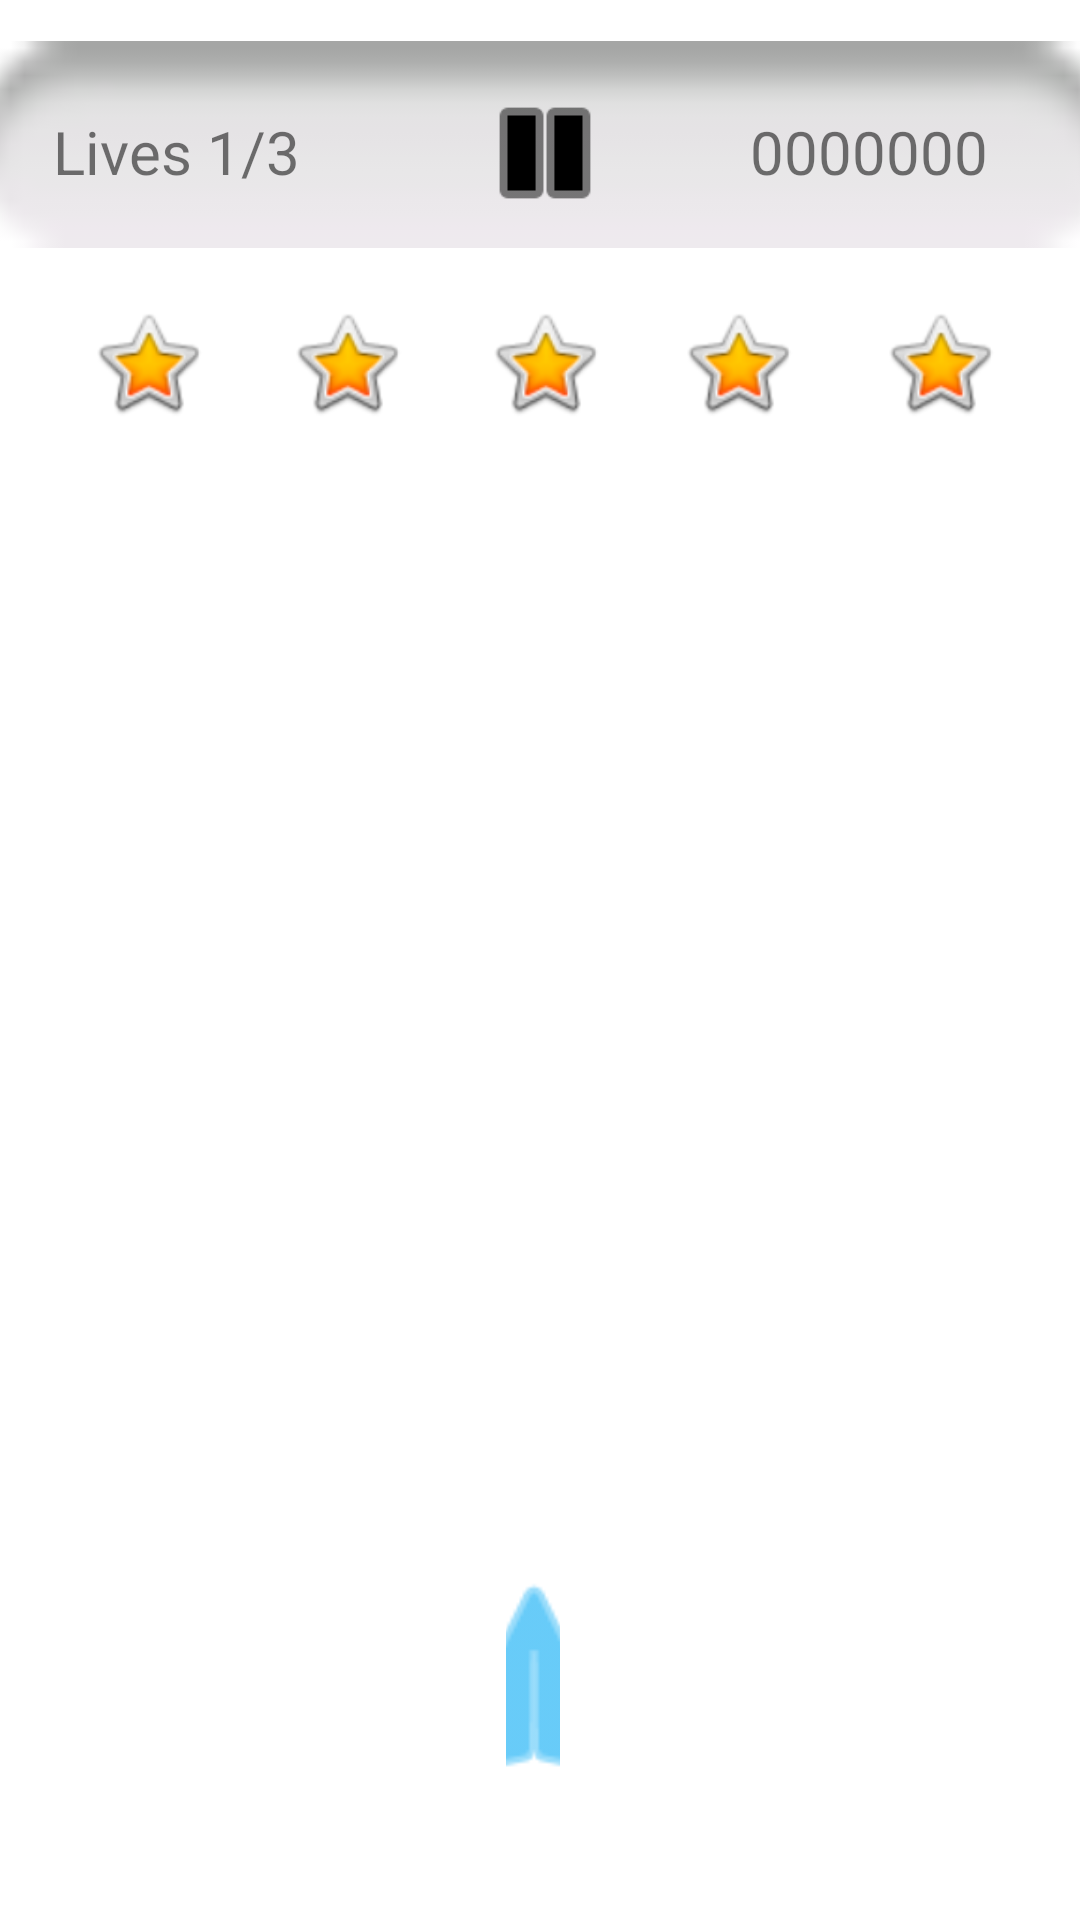

Icons on this 1080px×1920px Android screen, each with the point to tap as (x=x, y=y):
star on: (x=149, y=364), (x=348, y=364), (x=546, y=364), (x=739, y=364), (x=941, y=364)
